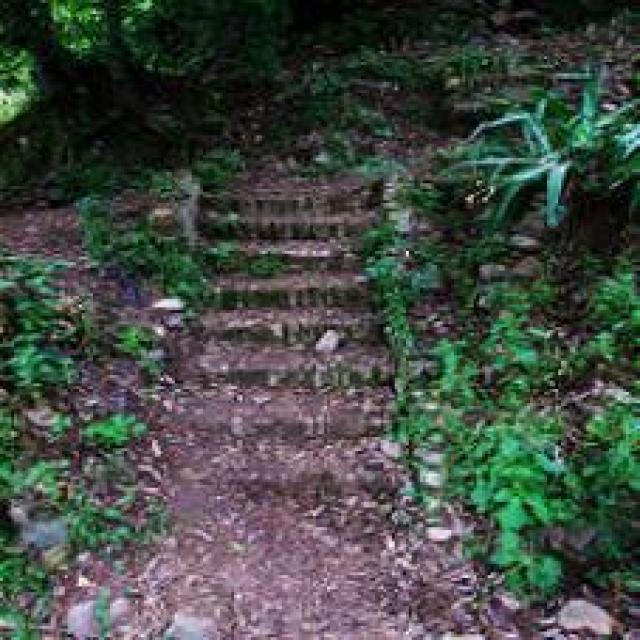upstair: (182, 185, 404, 478)
